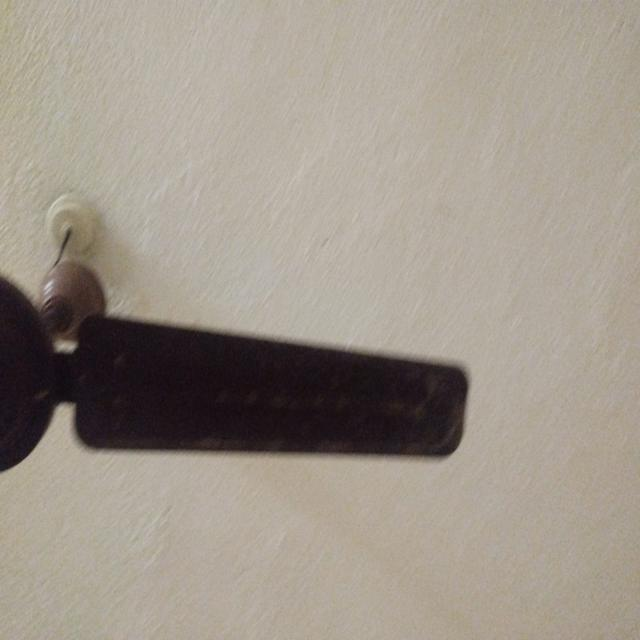fan_off: (0, 255, 469, 472)
